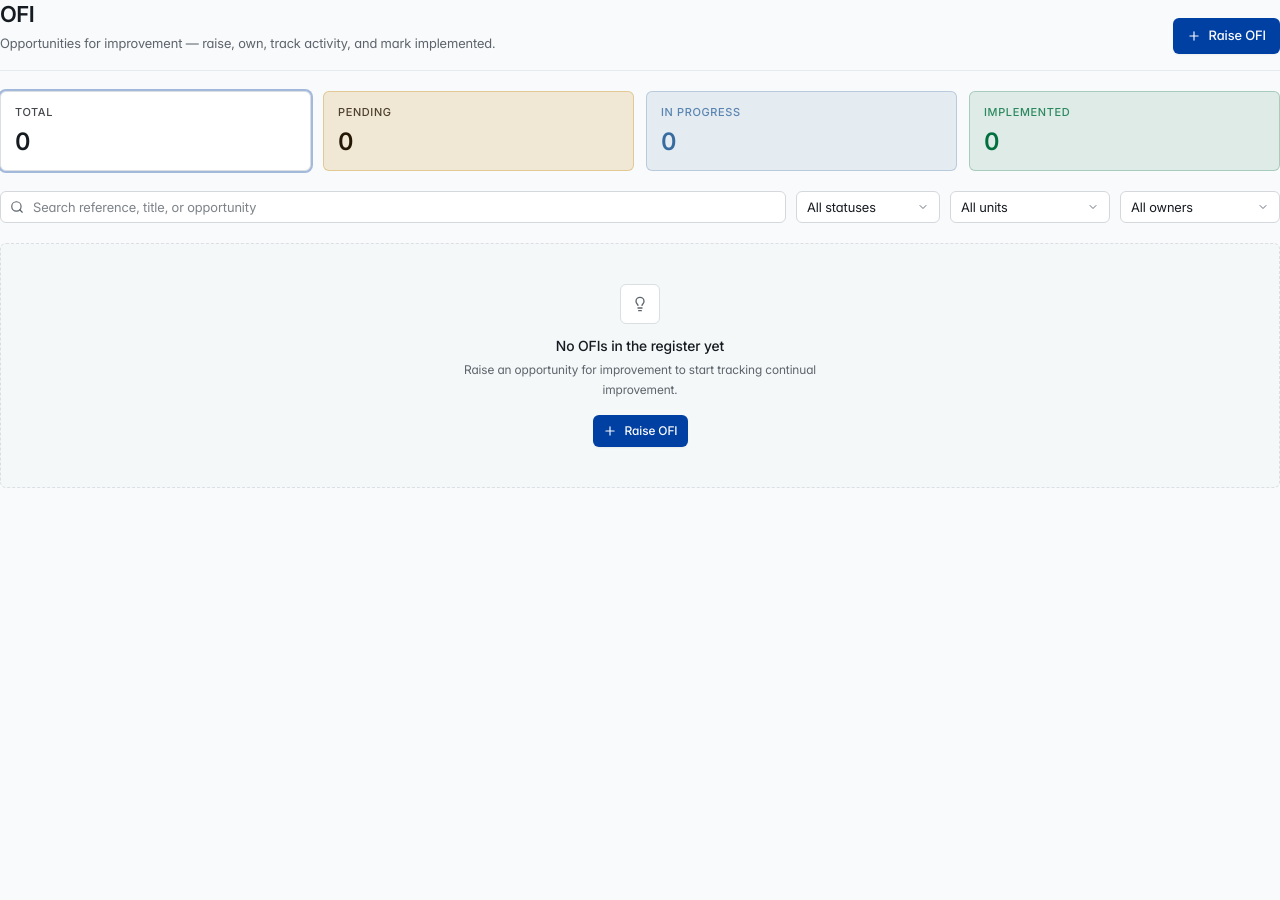
Test: OfisListPage › opens create sheet from Raise OFI
Expected: the text "No OFIs in the register yet" is shown, [556, 337, 724, 354]
Step 1. Click the 1st button "Raise OFI" → [1226, 36], box [1173, 18, 1279, 54]
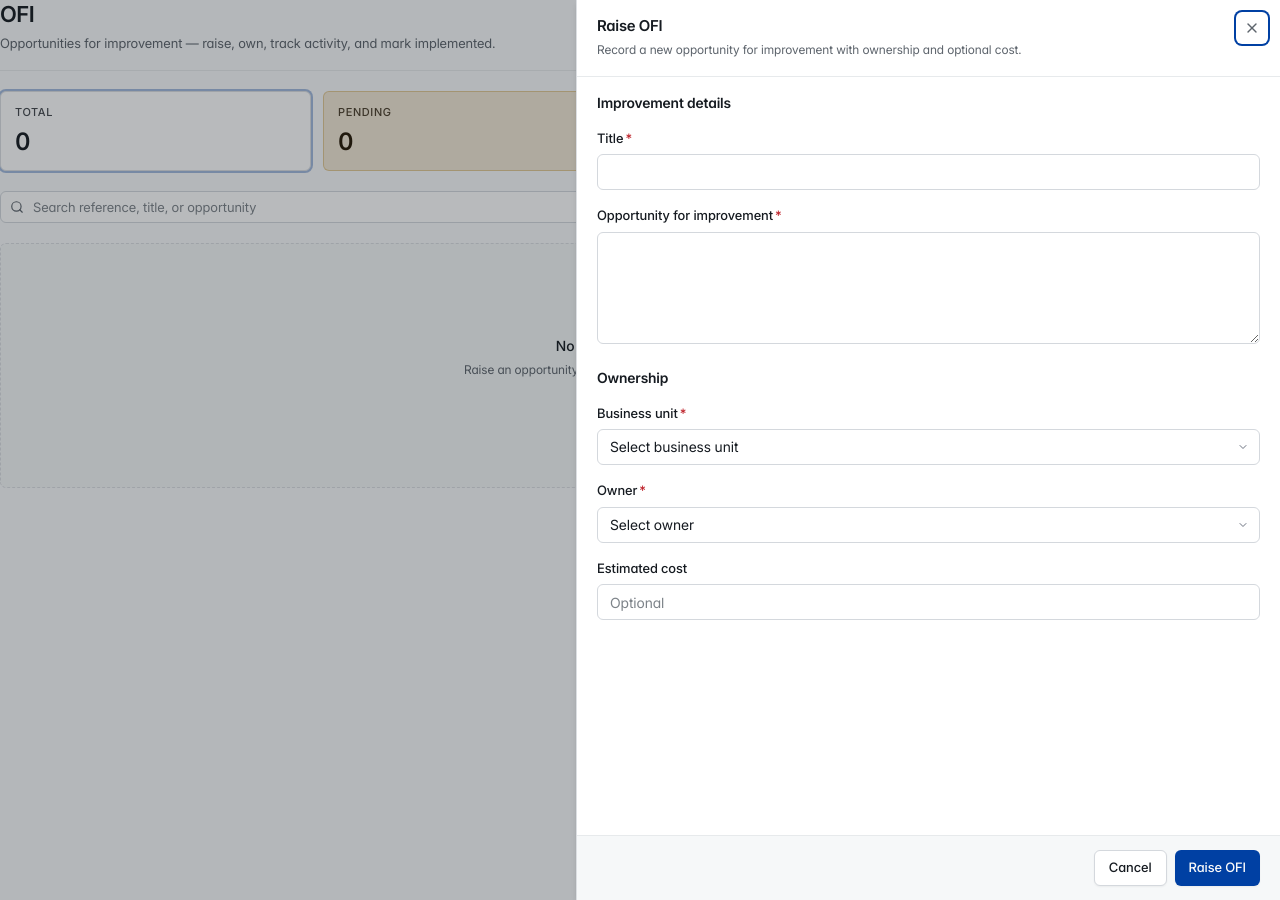
Result: the heading "Raise OFI" is shown at [597, 16, 662, 35]
Result: the text "Title*" is shown at [597, 130, 632, 146]
